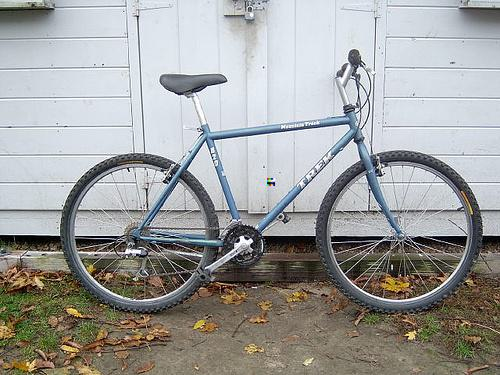car: (58, 48, 485, 317)
